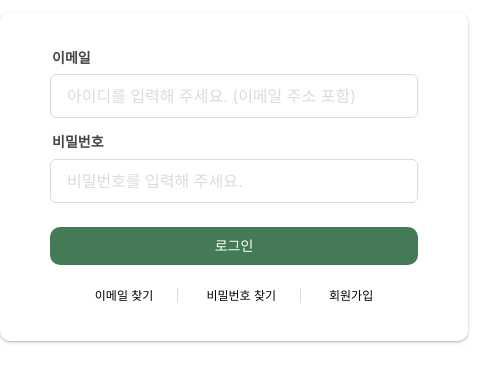
LoginForm 컴포넌트 테스트 › 이메일 입력 없이 전송 버튼을 눌러 입력 요청에 대한 문구가 보일 때 이메일 input을 클릭하면 해당 문구가 사라져야 한다.
This screenshot has width=486, height=382.
Click the button with aria-label "login-submit": (234, 246) [50,227,418,265]
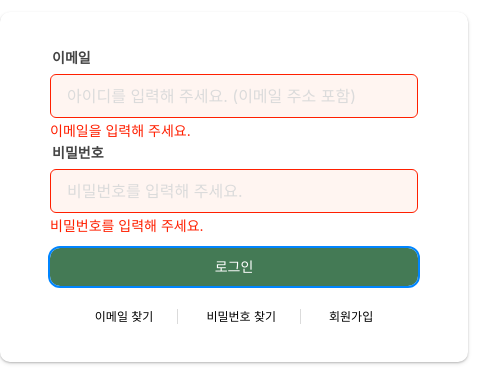
Click the field labelled "이메일": (234, 96) [50,74,418,118]
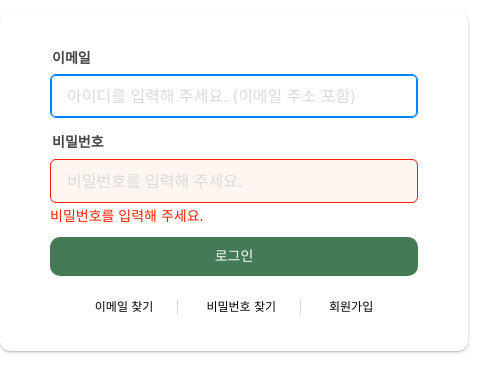
Result: the text "이메일을 입력해 주세요." is gone
